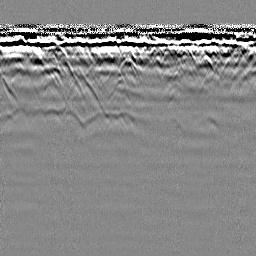cavity: (118, 55, 142, 75)
